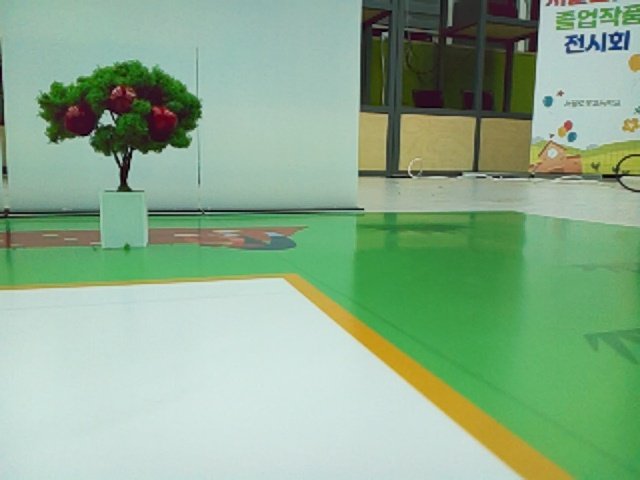apple: (110, 86, 135, 109), (152, 106, 177, 129)
